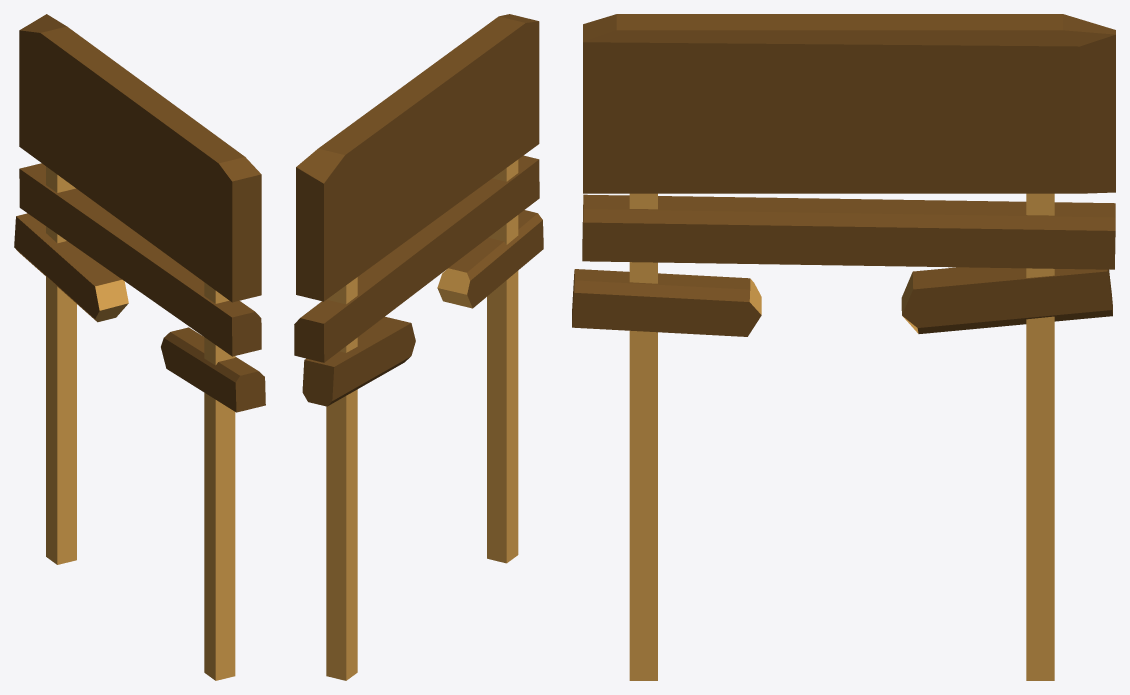
File: BarrierDown.fbx
The picture shows the model from 3 angles, left to right: view 1: azimuth 30°, elevation 25°; view 2: azimuth 150°, elevation 25°; view 3: azimuth 270°, elevation 25°; orthographic projection. The views are drawn at different scales.
Parts seen in each view (by area): view 1: Cube.003; view 2: Cube.003; view 3: Cube.003.
Boxes of the visible parts, box(x1,y1,x2,y2) form: Cube.003: box(14, 14, 265, 680); Cube.003: box(294, 14, 543, 680); Cube.003: box(572, 14, 1115, 680).
Bounding box in the file's own units: 0.7396 × 10.18 × 7.68.
